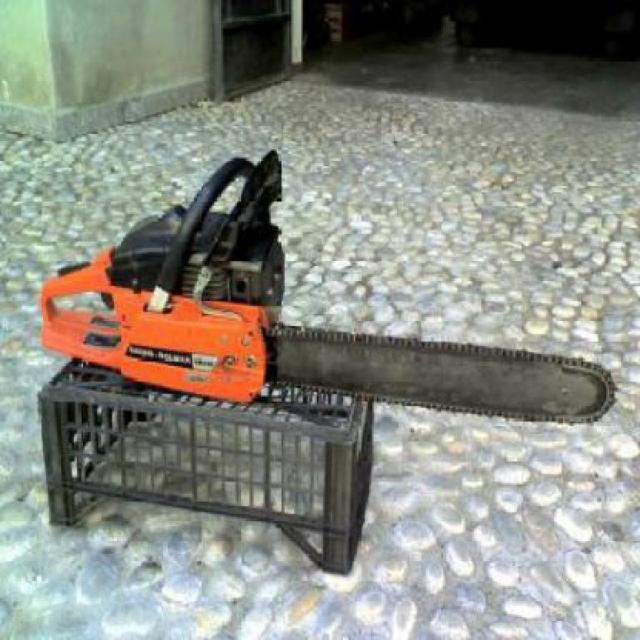Chainsaw: (40, 150, 623, 424)
